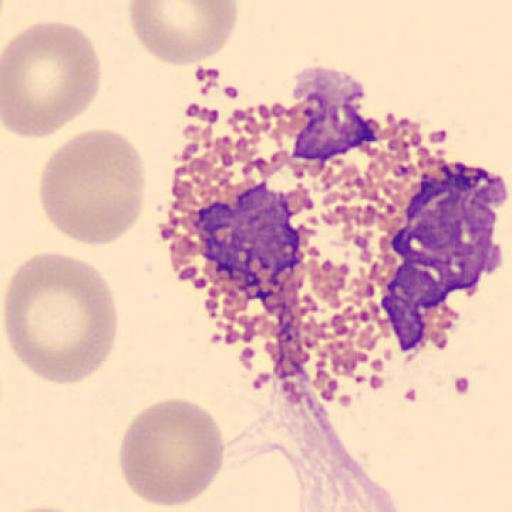RBC: (1, 250, 118, 386), (38, 126, 147, 248), (118, 396, 226, 510), (2, 20, 103, 140), (127, 0, 240, 68), (2, 503, 89, 512)
